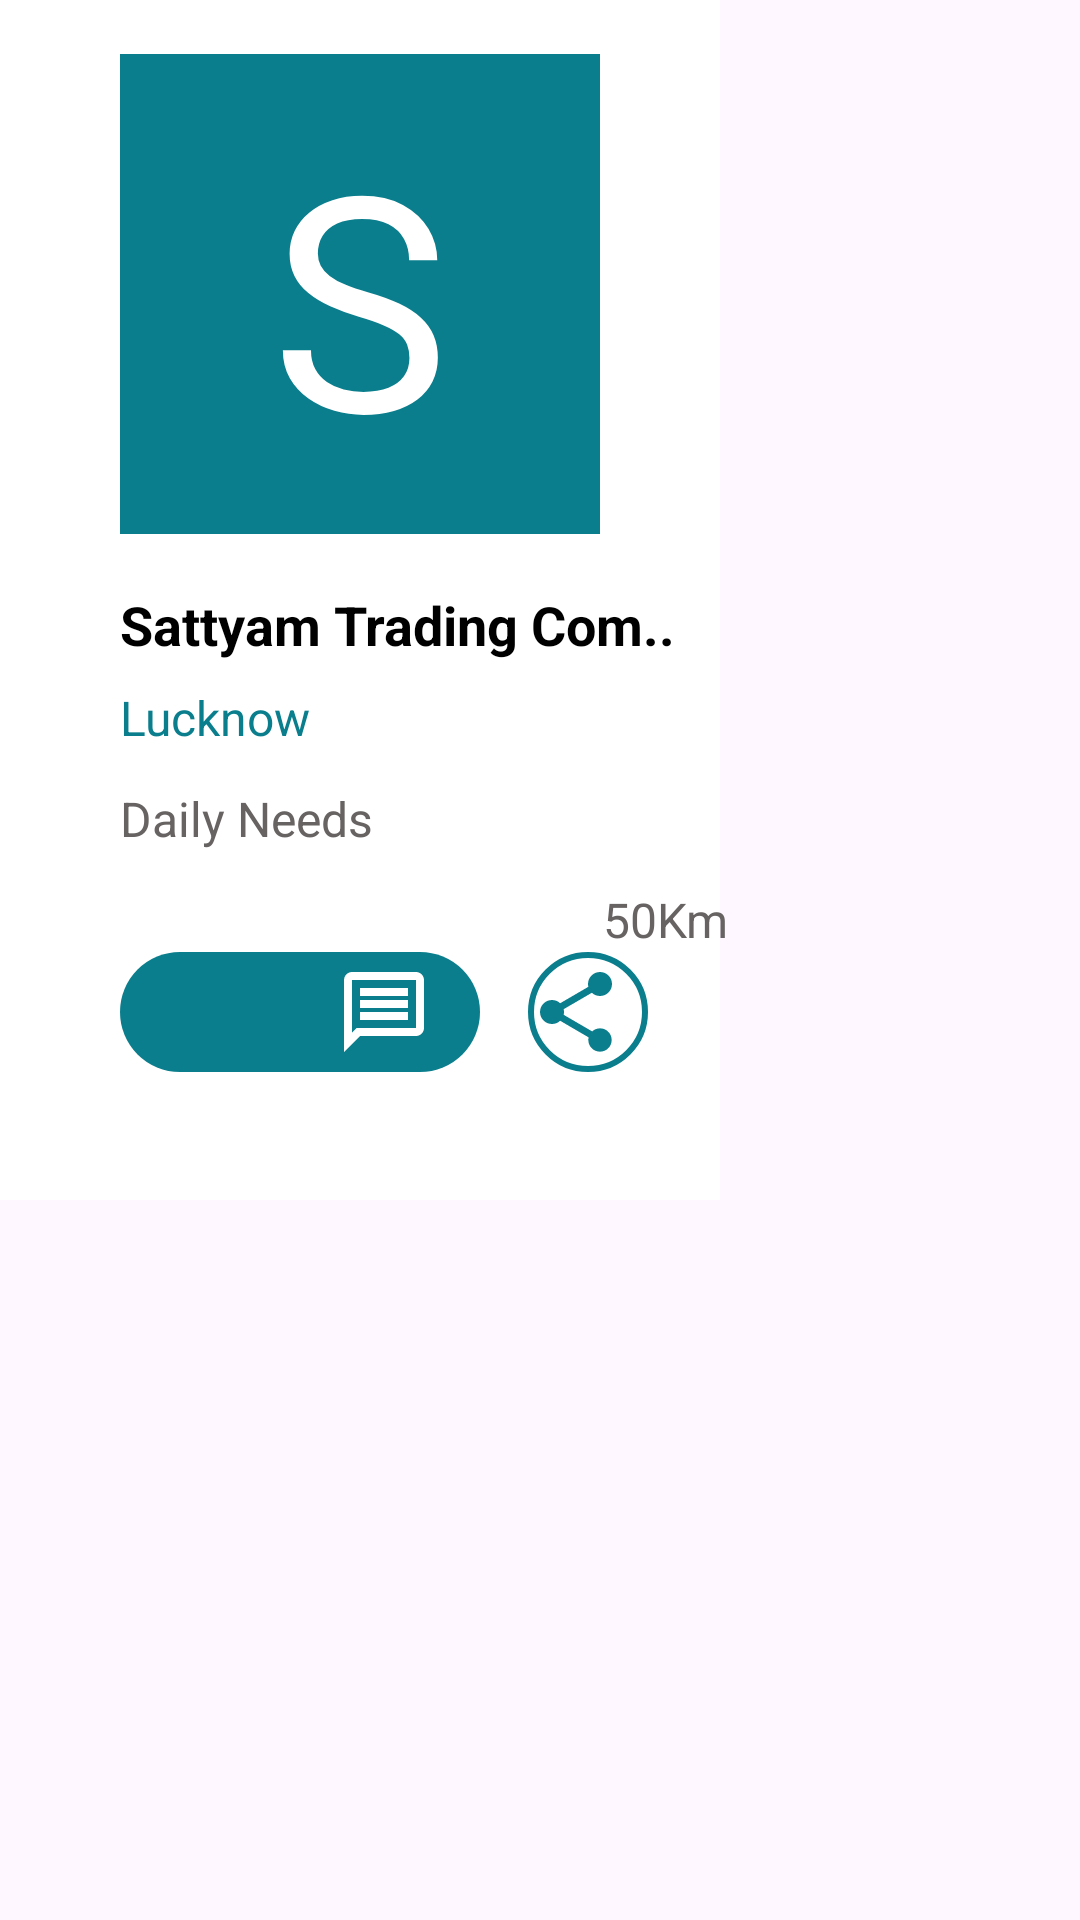

Icons on this 1080 × 1920 Android screen, each with its box as (x1, y1, x2, y2):
chat: (344, 972, 424, 1052)
share: (540, 972, 612, 1052)
